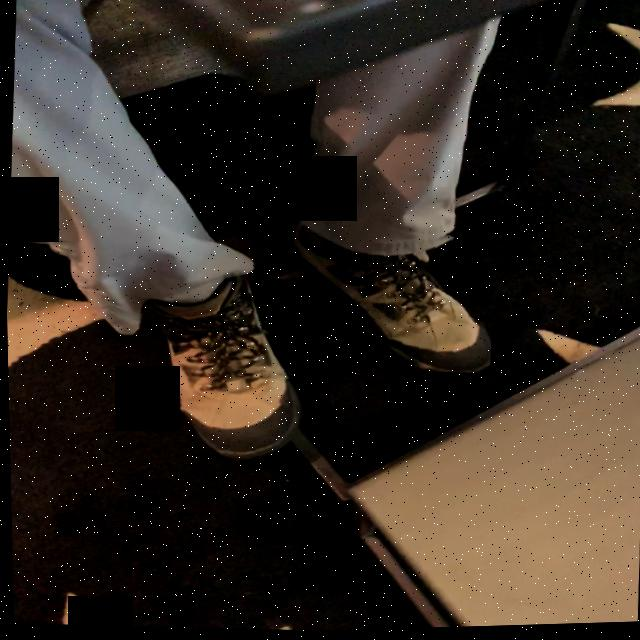shoe: (290, 225, 490, 376), (149, 280, 301, 465)
